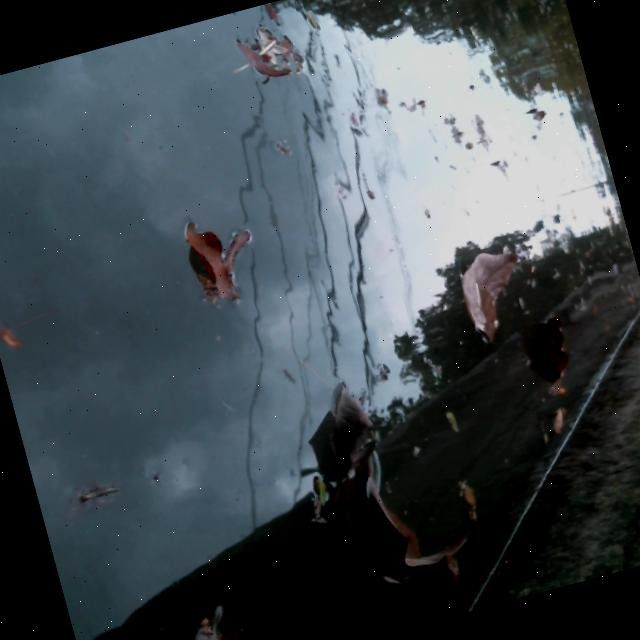Big-leaf: (291, 355, 479, 600), (446, 225, 552, 348), (523, 313, 588, 400)
Small-leaf: (161, 196, 260, 319), (230, 27, 292, 93), (177, 595, 244, 640), (267, 133, 297, 164)
